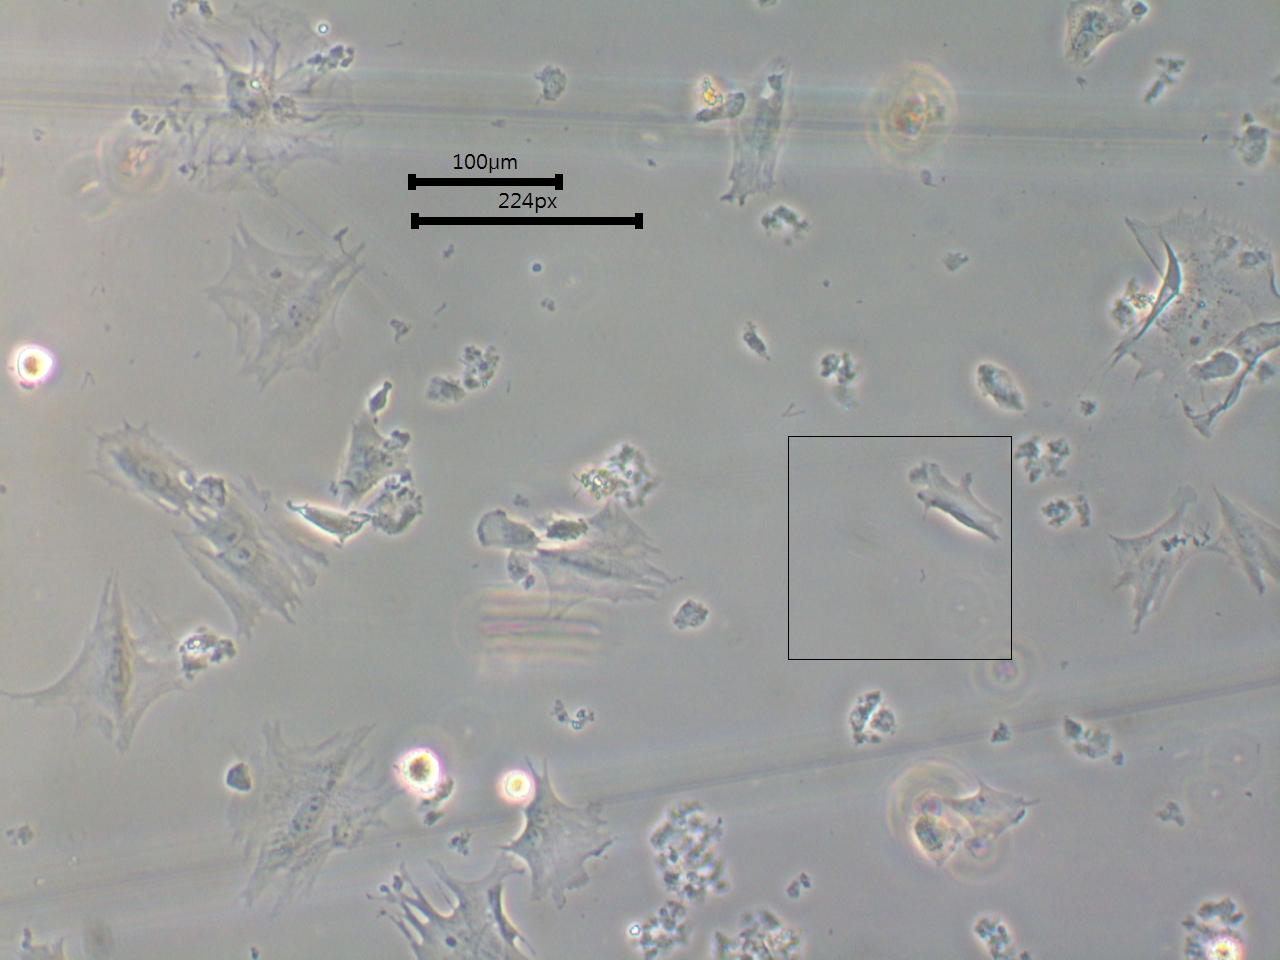dividing: (37, 575, 193, 774), (171, 474, 329, 632), (509, 754, 622, 912), (1055, 1, 1131, 78)
large-spread: (128, 5, 368, 197), (227, 710, 401, 927), (204, 215, 360, 384)
medium-polygonal: (1098, 474, 1205, 638), (86, 419, 198, 525)
small-polygonal: (904, 457, 1007, 547)
small-spread: (946, 783, 1035, 844)
